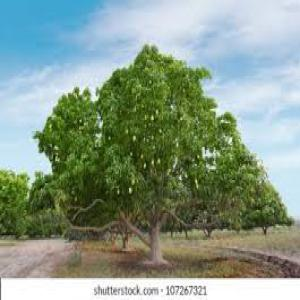Tree: (33, 41, 292, 265)
